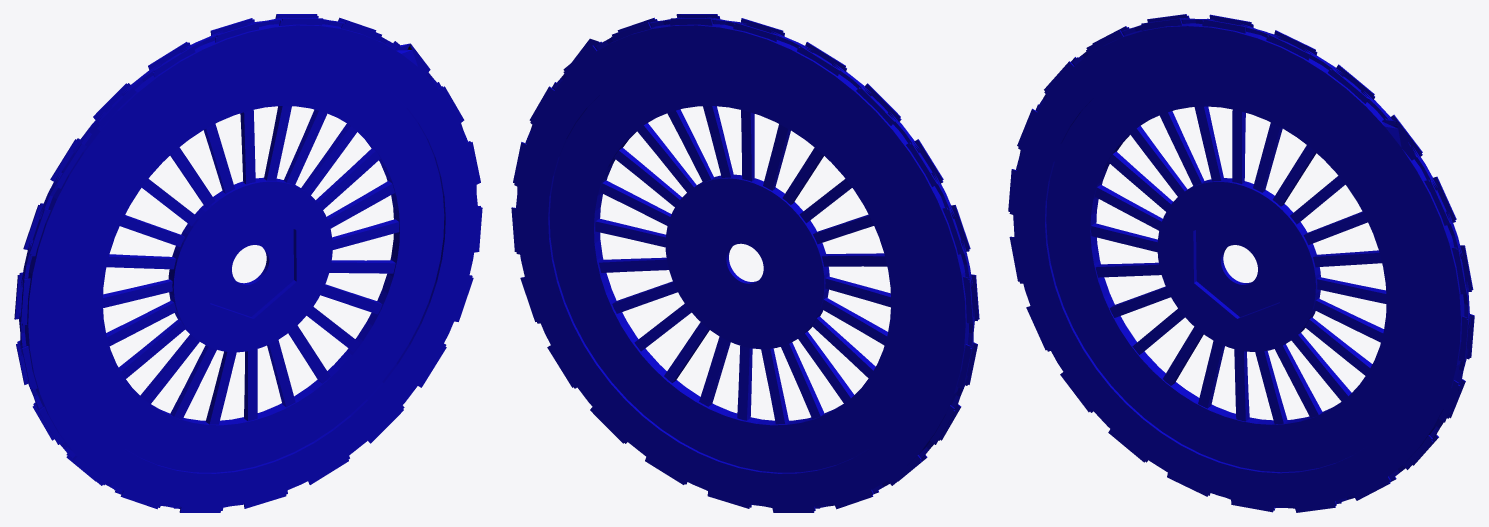
Rendered from wheel_visual.dae.
3 renders of one model, left to right at view 1: azimuth 30°, elevation 25°; view 2: azimuth 150°, elevation 25°; view 3: azimuth 330°, elevation 25°, orthographic.
Visible parts, largest first — view 1: tyre002; view 2: tyre002; view 3: tyre002.
Part boxes in pixels (x1,y1,x2,y2): tyre002: (14,14,482,512); tyre002: (511,14,979,512); tyre002: (1008,14,1474,512).
Size of the model in its own units: 8.1 by 8.1 by 0.28.
